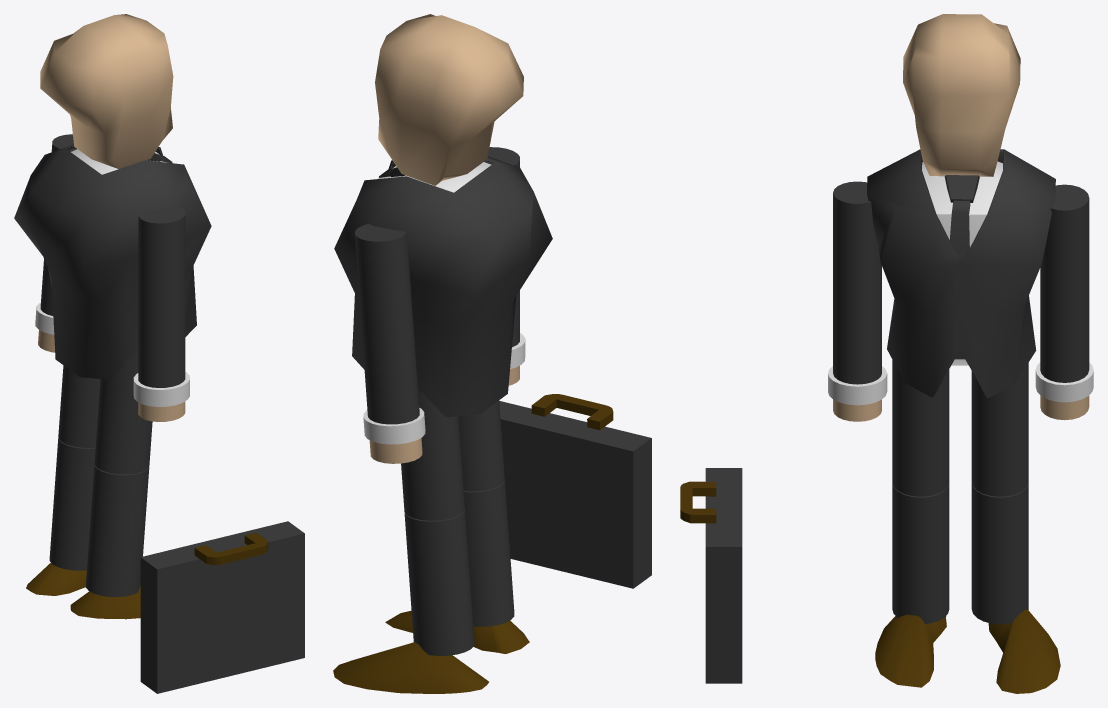
The model's file is wating_model.fbx.
3 views of the same model, side by side, from view 1: azimuth 30°, elevation 25°; view 2: azimuth 150°, elevation 25°; view 3: azimuth 270°, elevation 25° (orthographic). The views are drawn at different scales.
Parts seen in each view (by area): view 1: polySurface4, pCube3, pCube2, pCylinder3, pCylinder5, pCylinder1, pCylinder4, polySurface11, pCylinder2, pCone1, pCone2, pCube4 (+3 smaller); view 2: polySurface4, pCube3, pCube2, pCylinder4, pCylinder8, pCylinder3, pCylinder2, pCone2, polySurface8, pCylinder1, pCone1, pCube4 (+3 smaller); view 3: polySurface4, pCube2, pCube3, pCylinder4, pCylinder3, pCylinder1, pCylinder2, pCylinder5, pCylinder8, pCone2, pCone1, polySurface11 (+8 smaller).
Boxes of the visible parts, box(x1,y1,x2,y2) form: polySurface4: box(14, 144, 211, 379); pCube3: box(140, 521, 304, 693); pCube2: box(40, 14, 173, 168); pCylinder3: box(86, 463, 149, 597); pCylinder5: box(138, 205, 185, 322); pCylinder1: box(94, 345, 152, 474); pCylinder4: box(49, 437, 95, 570); polySurface11: box(138, 314, 185, 387); pCylinder2: box(58, 365, 100, 447); pCone1: box(70, 585, 140, 619); pCone2: box(26, 563, 86, 595); pCube4: box(194, 532, 268, 565); polySurface4: box(334, 156, 552, 417); pCube3: box(499, 401, 651, 588); pCube2: box(375, 14, 523, 185); pCylinder4: box(404, 508, 474, 655); pCylinder8: box(355, 223, 414, 353); pCylinder3: box(463, 479, 514, 626); pCylinder2: box(401, 389, 464, 520); pCone2: box(333, 642, 488, 693); polySurface8: box(363, 343, 419, 424); pCylinder1: box(458, 400, 504, 491); pCone1: box(385, 610, 529, 653); pCube4: box(531, 394, 613, 430); polySurface4: box(867, 149, 1055, 397); pCube2: box(903, 14, 1020, 176); pCube3: box(705, 468, 742, 683); pCylinder4: box(971, 482, 1028, 624); pCylinder3: box(892, 482, 949, 623); pCylinder1: box(892, 360, 949, 496); pCylinder2: box(971, 363, 1028, 496); pCylinder5: box(833, 181, 881, 313); pCylinder8: box(1040, 184, 1089, 315); pCone2: box(988, 609, 1060, 693); pCone1: box(875, 614, 946, 687); polySurface11: box(833, 302, 881, 384).
Size of the model in its own units: 1.24 by 4.65 by 2.74.
